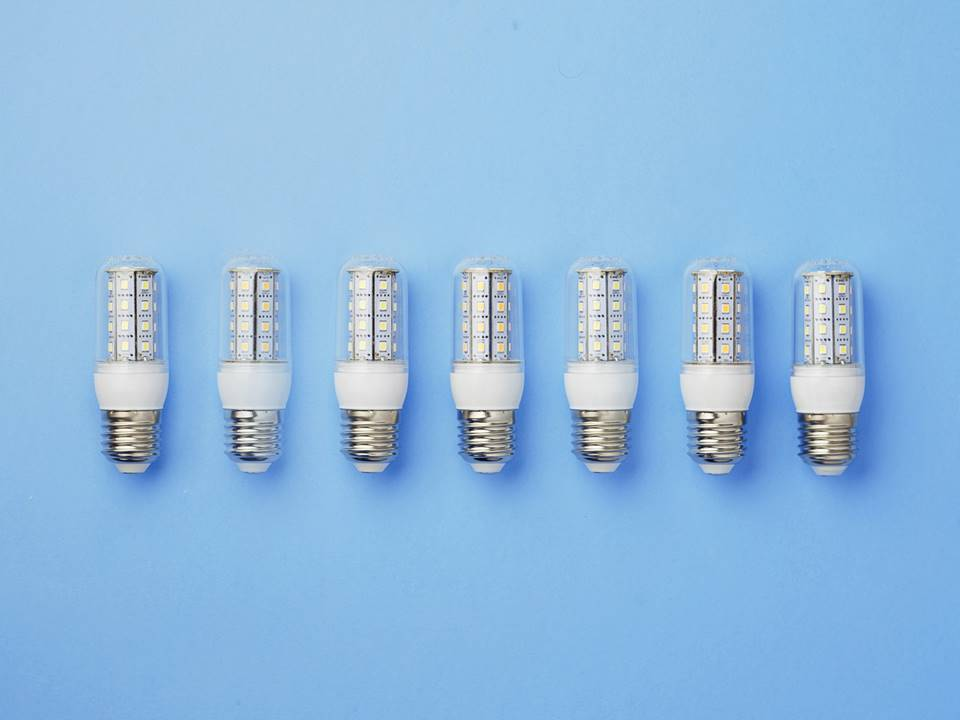Light_bulb: (774, 252, 881, 483), (666, 251, 766, 484), (438, 251, 538, 481), (325, 254, 411, 482), (213, 242, 294, 477), (563, 256, 642, 483), (95, 258, 178, 469)
